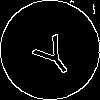Y: (25, 25, 79, 82)
